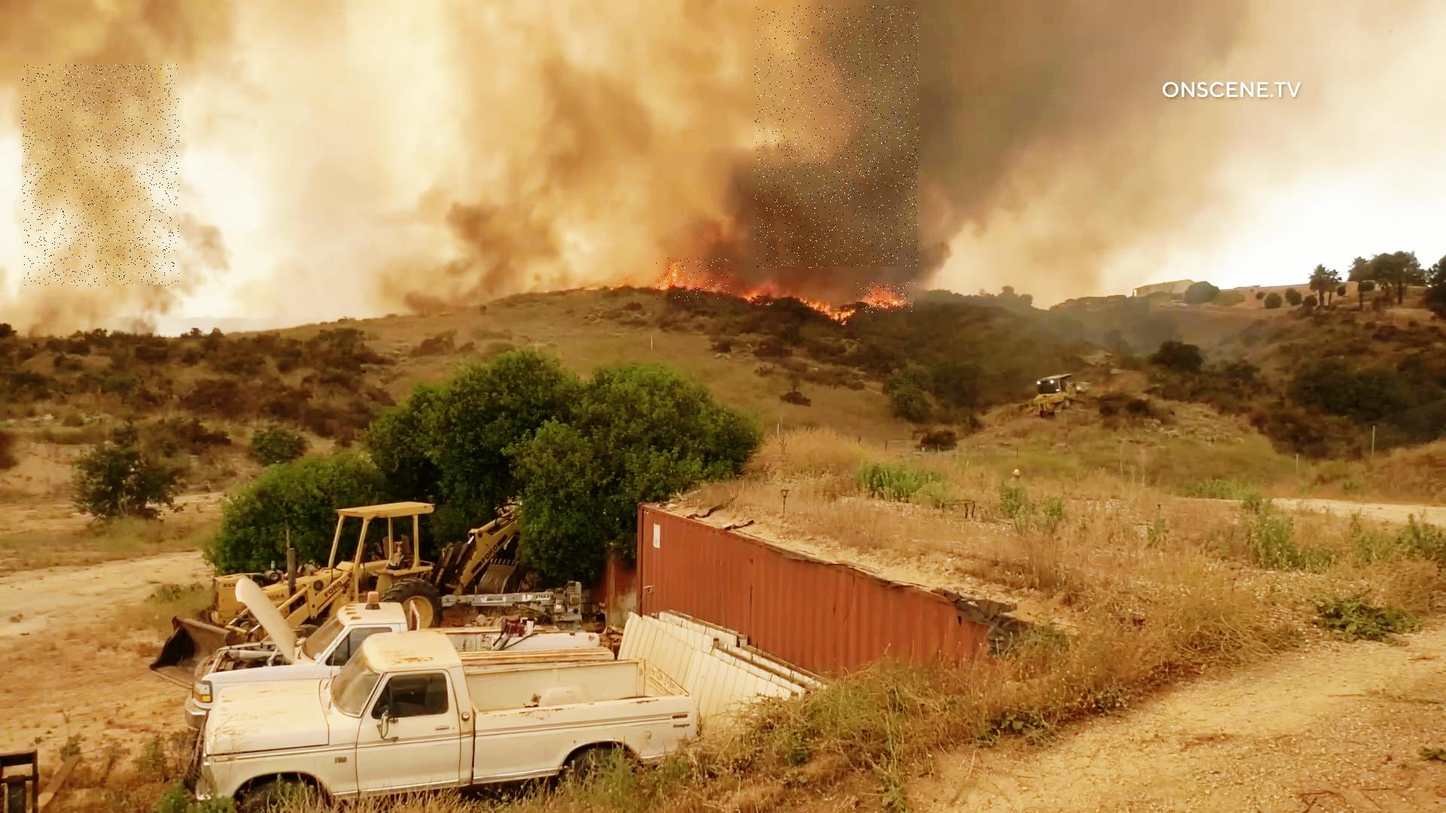fire: (655, 258, 730, 302), (856, 283, 916, 314)
smoke: (755, 6, 920, 269), (22, 64, 179, 286)
